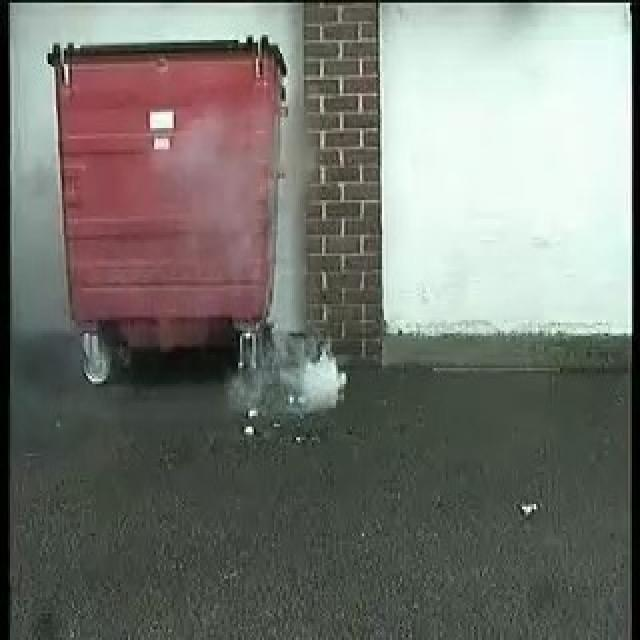smoke: (260, 335, 348, 417)
